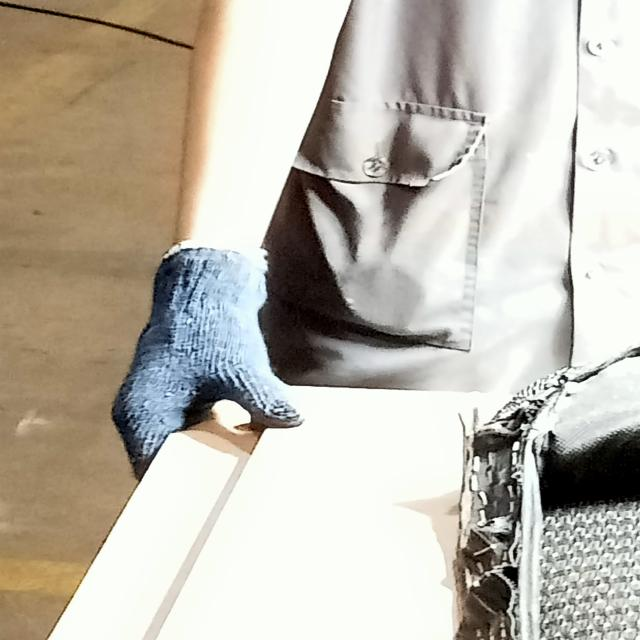Gloves-Detection: (110, 243, 294, 474)
